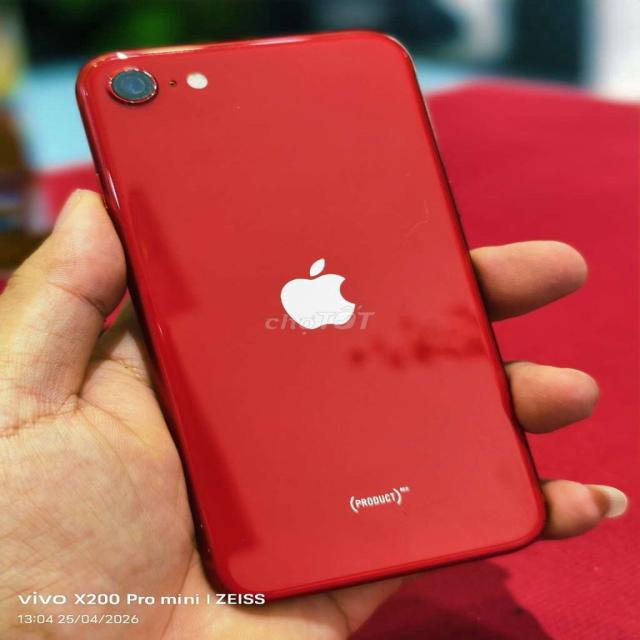gen_7_8: (78, 32, 542, 598)
